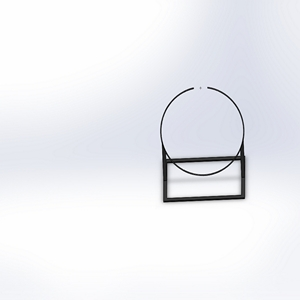circle: (157, 82, 249, 204)
